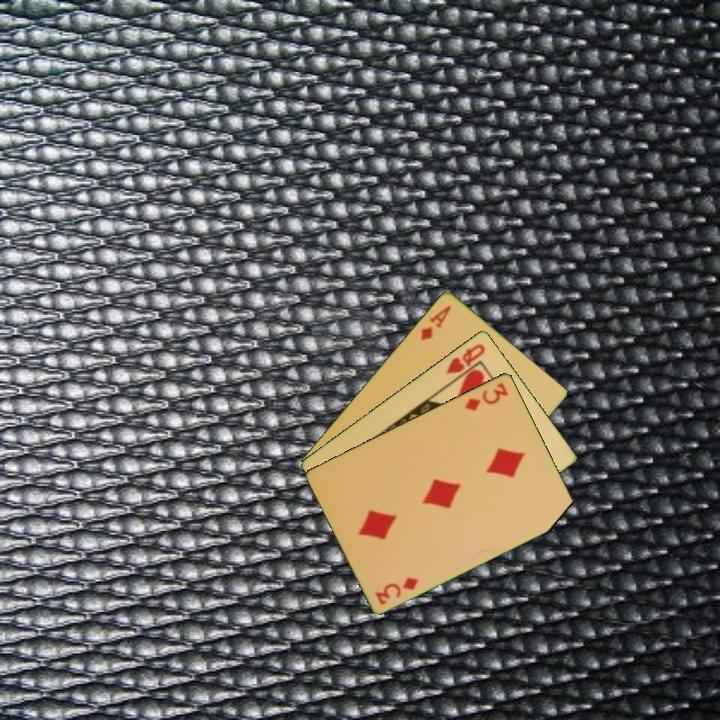3d: (461, 378, 511, 413), (372, 573, 421, 607)
Ad: (417, 301, 454, 342)
Qh: (442, 340, 488, 377)
